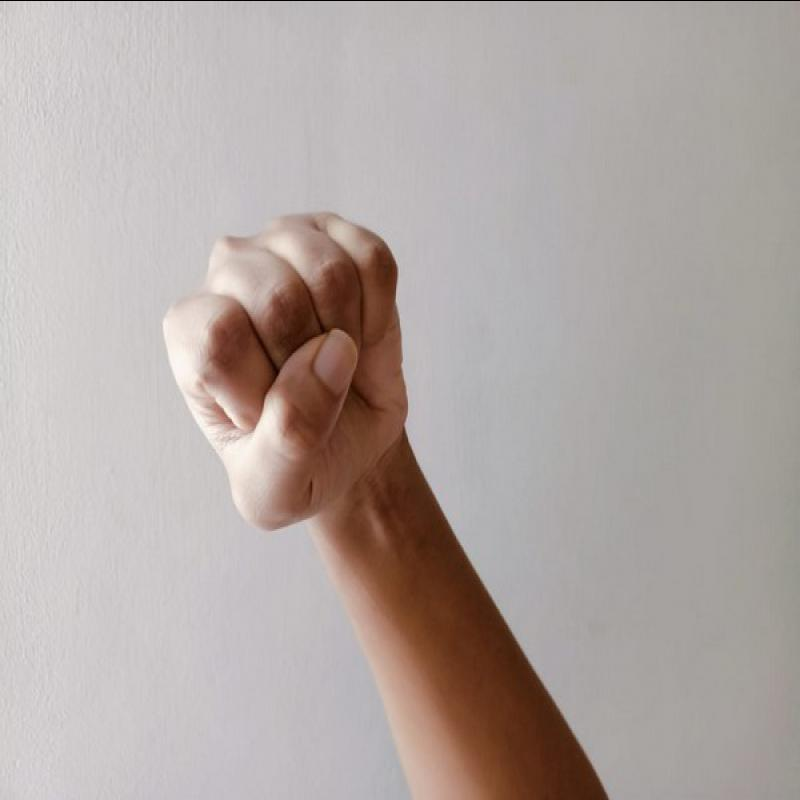Mushti: (149, 201, 423, 550)
